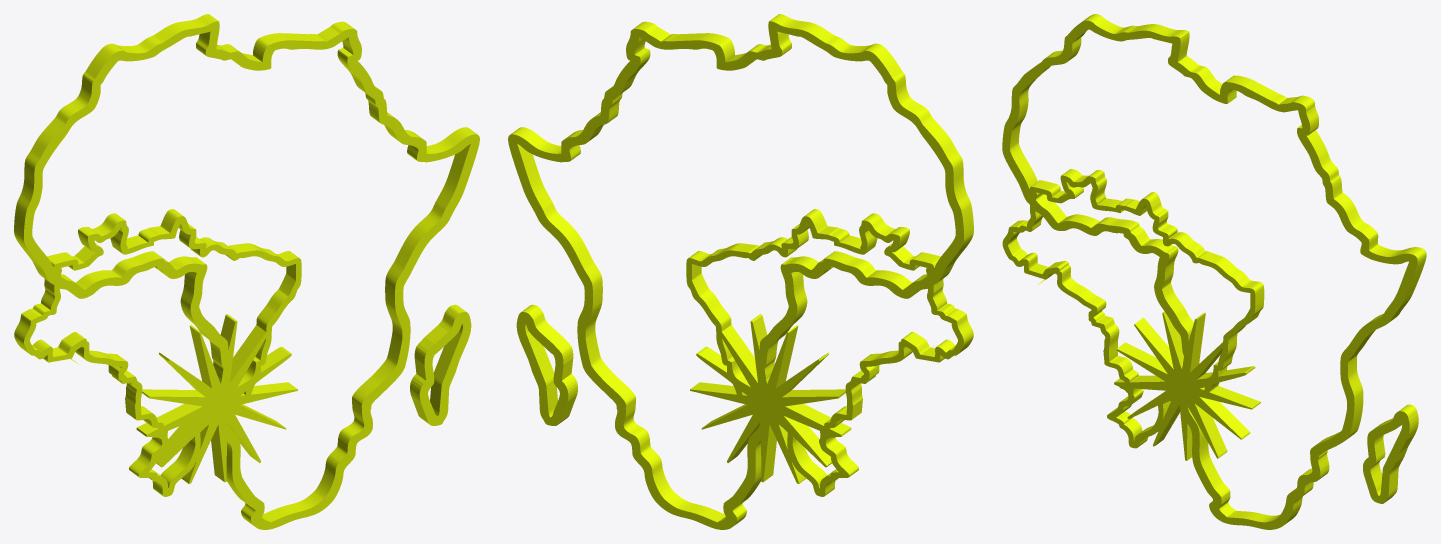
The model's file is afrobrasil.gltf.
3 renders of one model, left to right at view 1: azimuth 30°, elevation 25°; view 2: azimuth 150°, elevation 25°; view 3: azimuth 330°, elevation 25°, orthographic. The views are drawn at different scales.
Visible parts, largest first — view 1: Curve; view 2: Curve; view 3: Curve.
Part boxes in pixels (x1,y1,x2,y2): Curve: (14, 14, 479, 529); Curve: (508, 14, 973, 529); Curve: (1002, 14, 1426, 529).
Bounding box in the file's own units: 3.97 × 4.34 × 0.2965.
